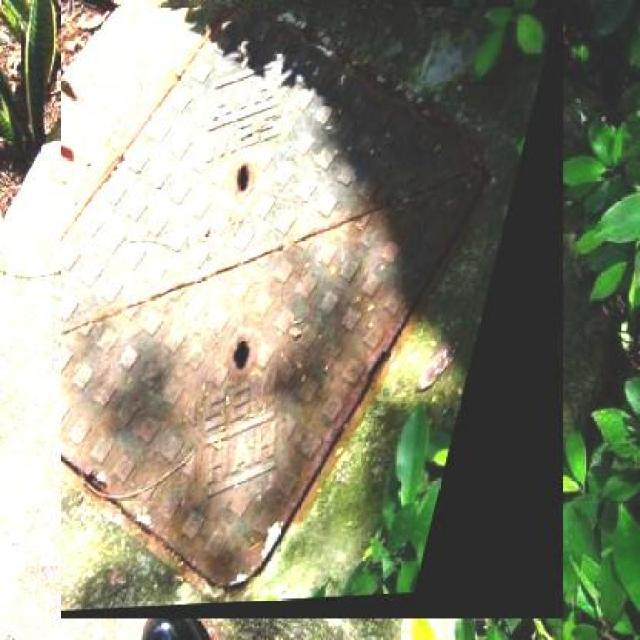Manhole: (60, 8, 563, 618)
